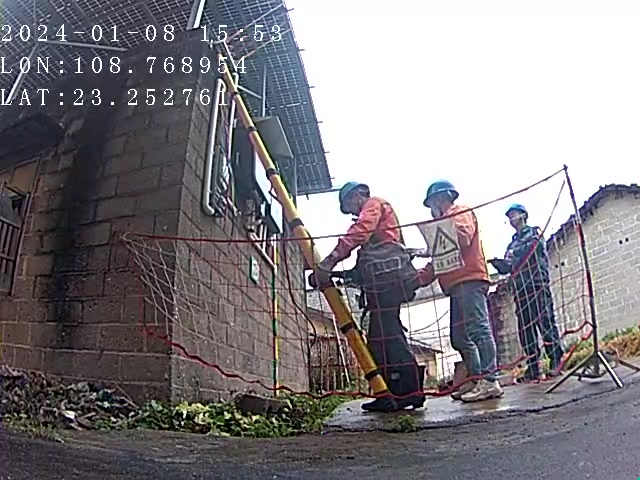halt: (341, 183, 375, 219), (426, 182, 462, 215), (508, 206, 532, 232)
